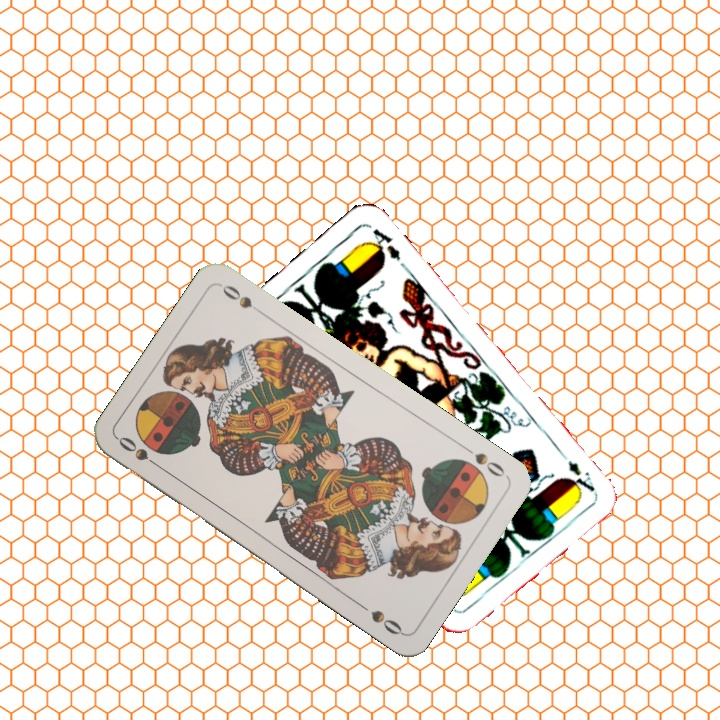EA: (554, 445, 598, 495)
SO: (114, 432, 166, 473), (459, 441, 511, 481)
